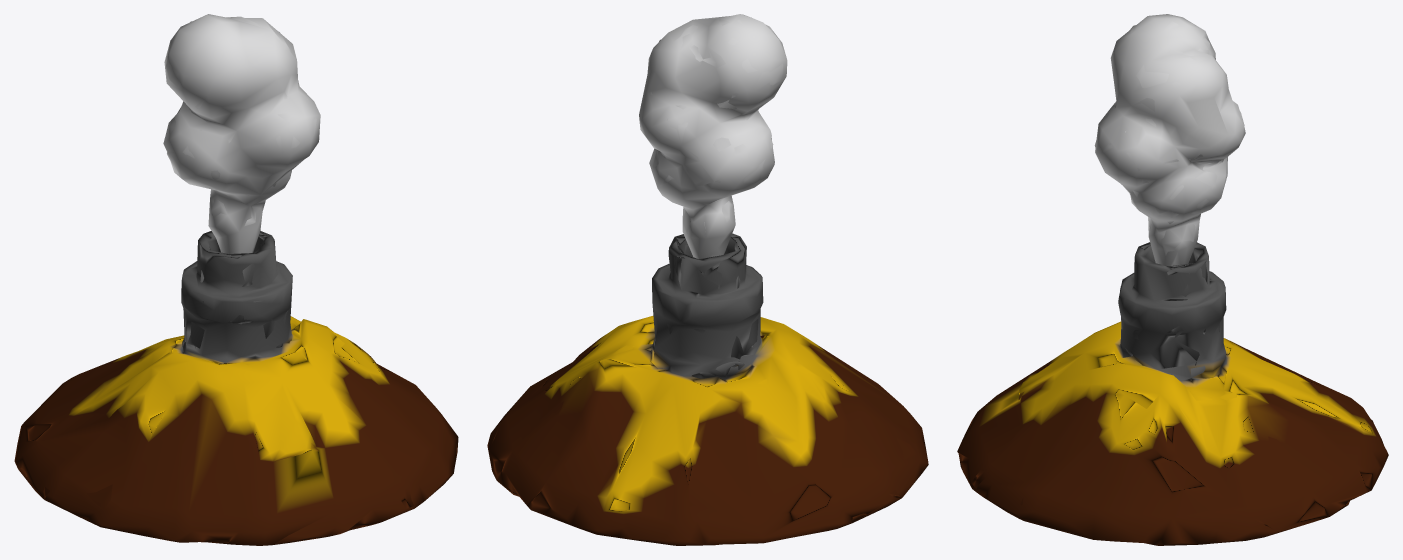
The model's file is gen3d-steam-vent-lod0.glb.
3 views of the same model, side by side, from view 1: azimuth 30°, elevation 25°; view 2: azimuth 150°, elevation 25°; view 3: azimuth 270°, elevation 25° (orthographic). The views are drawn at different scales.
Parts seen in each view (by area): view 1: part_0; view 2: part_0; view 3: part_0.
Boxes of the visible parts, box(x1,y1,x2,y2) form: part_0: box(14, 14, 458, 545); part_0: box(487, 14, 928, 545); part_0: box(957, 14, 1388, 545).
Bounding box in the file's own units: 0.9132 × 0.9982 × 0.9167.
